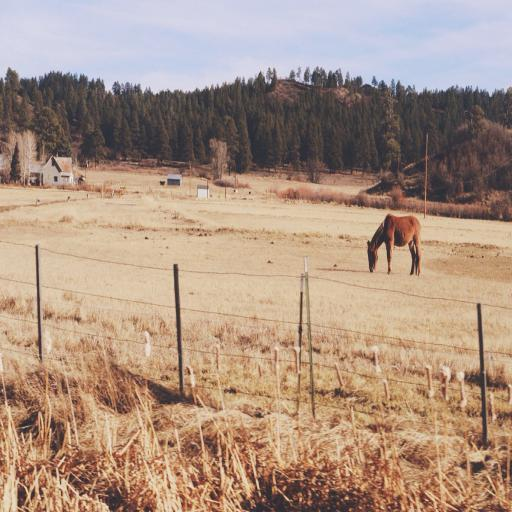Horse: (366, 216, 422, 278)
